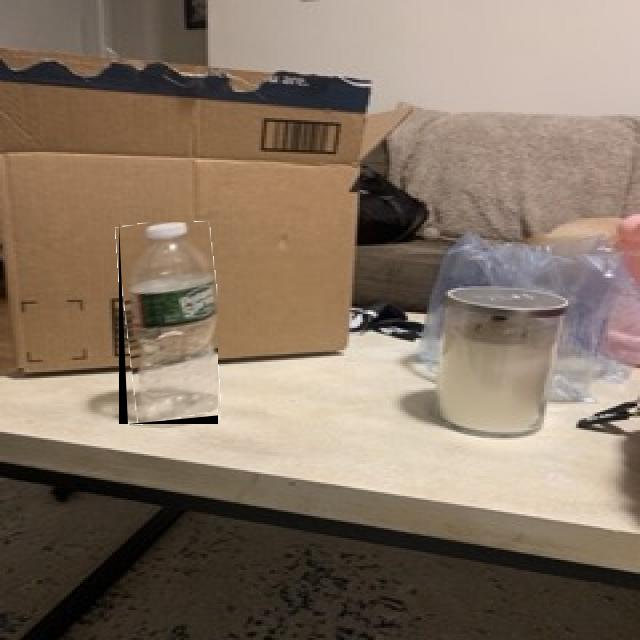water_bottle: (119, 222, 218, 424)
